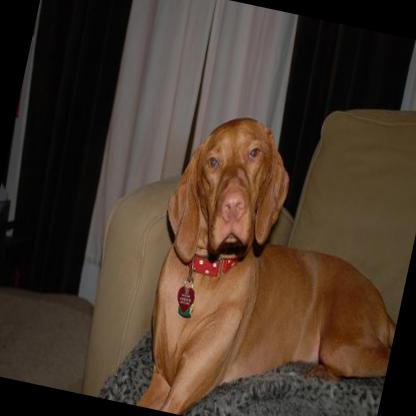vizsla: (117, 100, 416, 416)
